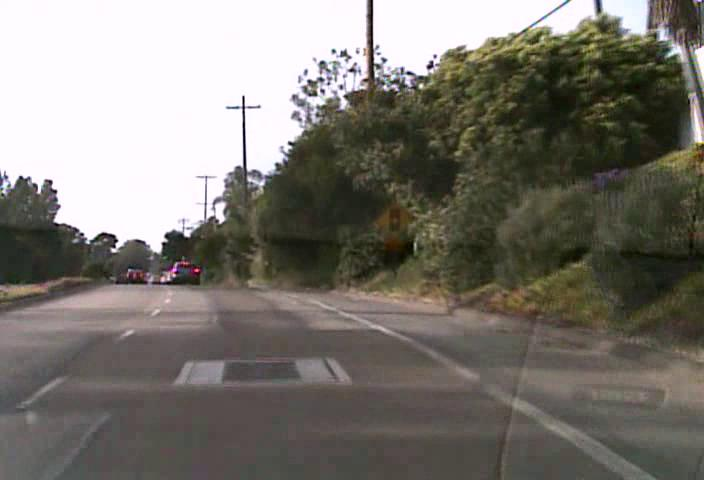signalAhead: (373, 199, 415, 243)
